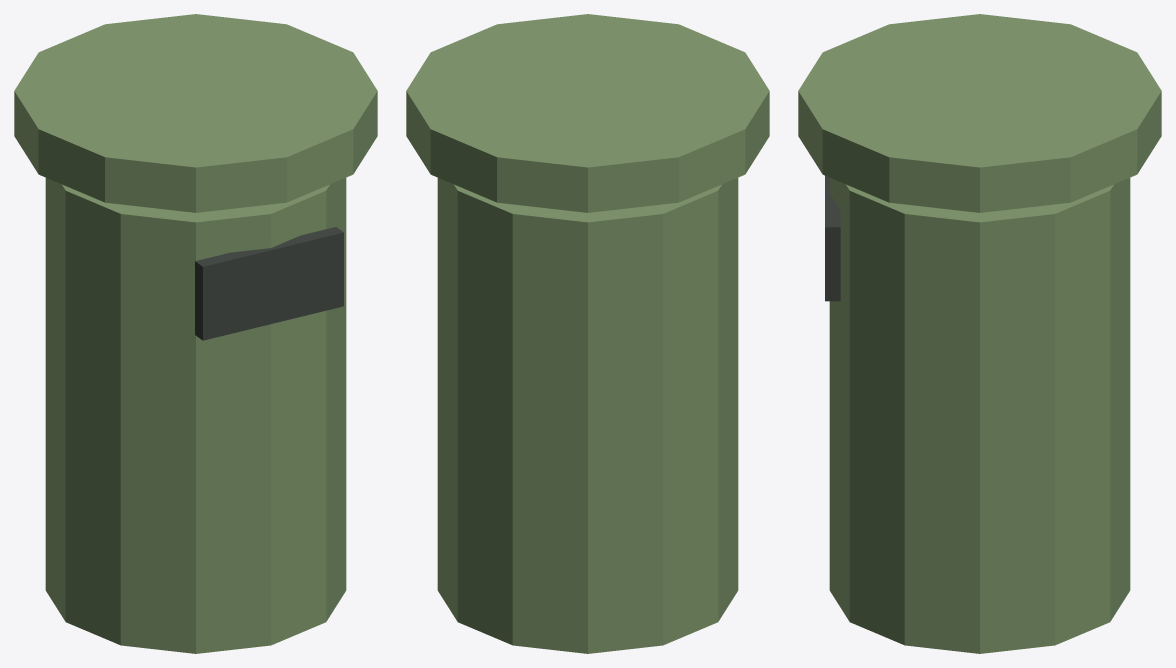
The model's file is zoo-and-safari-park-builder-litter-bin-015de572__21492.glb.
The picture shows the model from 3 angles, left to right: view 1: azimuth 30°, elevation 25°; view 2: azimuth 150°, elevation 25°; view 3: azimuth 270°, elevation 25°; orthographic projection.
Parts seen in each view (by area): view 1: litter-bin; view 2: litter-bin; view 3: litter-bin.
Part boxes in pixels (x1,y1,x2,y2): litter-bin: (14, 14, 377, 653); litter-bin: (406, 14, 769, 653); litter-bin: (798, 14, 1161, 653).
Bounding box in the file's own units: 0.58 × 0.88 × 0.58.
